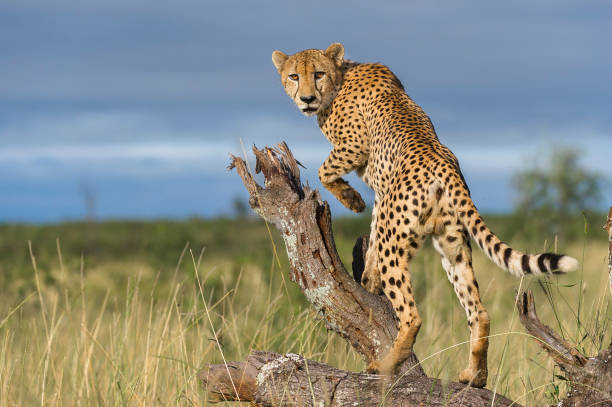cheetah: (262, 39, 360, 130)
